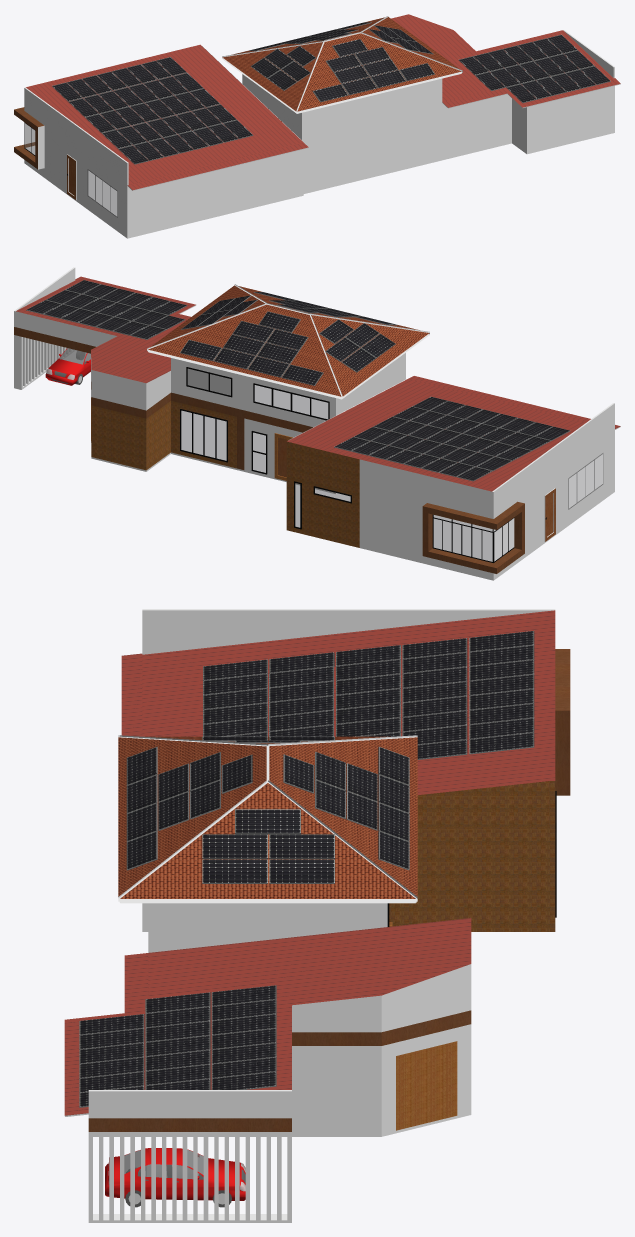
File: house_and_solar_panels.glb
The picture shows the model from 3 angles, top to bottom: view 1: azimuth 30°, elevation 25°; view 2: azimuth 150°, elevation 25°; view 3: azimuth 270°, elevation 25°; orthographic projection. The views are drawn at different scales.
Parts seen in each view (by area): view 1: Material2 (×8), Material3; view 2: Material2 (×12), Material3 (×2); view 3: Material2 (×9), Material3 (×2).
Part boxes in pixels (x1=…): Material2 (×8): x1=14, y1=14, x2=620, y2=238; Material3: x1=222, y1=17, x2=461, y2=111; Material2 (×12): x1=14, y1=267, x2=620, y2=580; Material3 (×2): x1=91, y1=285, x2=429, y2=547; Material2 (×9): x1=64, y1=609, x2=570, y2=1222; Material3 (×2): x1=118, y1=736, x2=555, y2=931.
Bounding box in the file's own units: 23.41 × 5.55 × 10.66.
22 materials, 8 textured.
